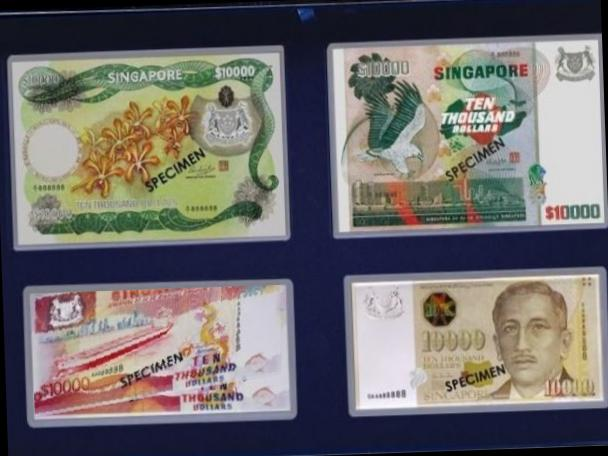10000SingaporeDollar: (30, 286, 290, 420)
